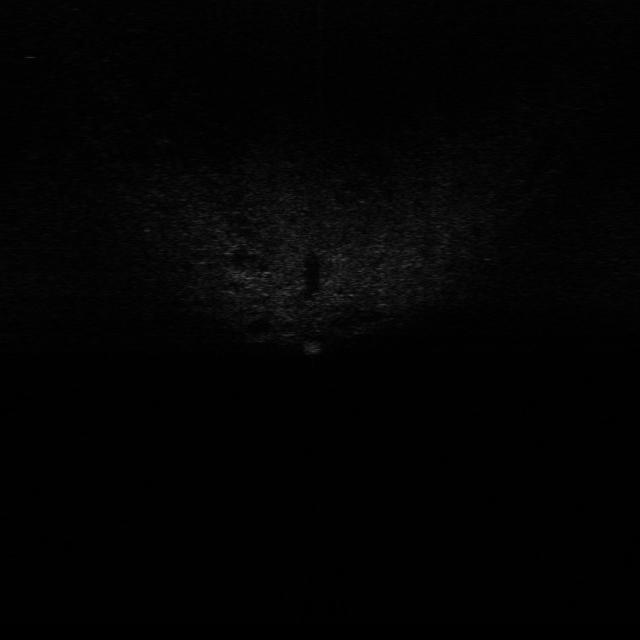cube: (300, 335, 330, 358)
